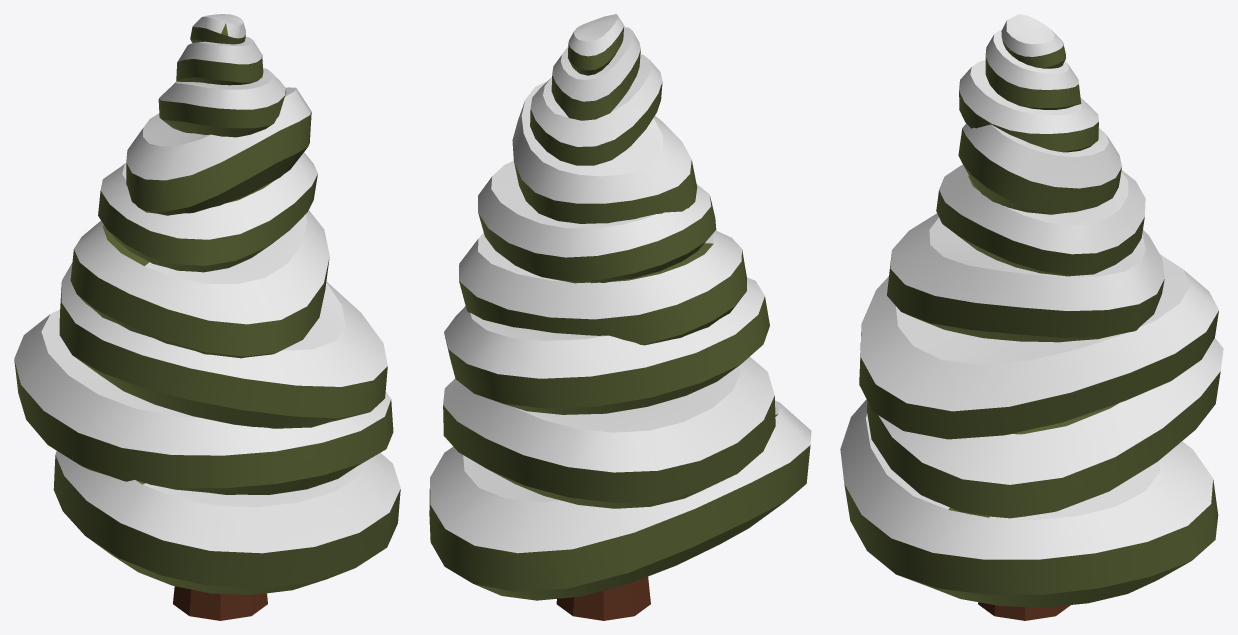
File: SnowPine.fbx
3 views of the same model, side by side, from view 1: azimuth 30°, elevation 25°; view 2: azimuth 150°, elevation 25°; view 3: azimuth 270°, elevation 25° (orthographic).
Visible parts, largest first — view 1: SnowPine; view 2: SnowPine; view 3: SnowPine.
Boxes of the visible parts, x1=… form: SnowPine: x1=14, y1=14, x2=400, y2=620; SnowPine: x1=429, y1=14, x2=811, y2=620; SnowPine: x1=840, y1=14, x2=1223, y2=620.
Bounding box in the file's own units: 9.97 × 17.8 × 10.64.
1 material, 1 textured.
